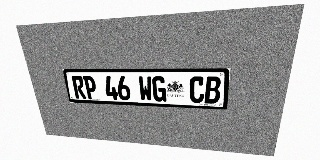4: (103, 76, 118, 100)
6: (116, 76, 131, 100)
B: (204, 76, 221, 104)
C: (189, 76, 205, 103)
G: (152, 76, 166, 102)
P: (83, 76, 98, 99)
R: (71, 76, 86, 99)
W: (138, 76, 153, 101)
